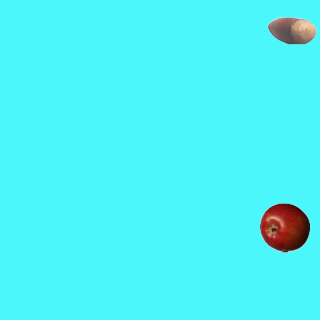Apple Braeburn: (259, 202, 309, 252)
Hazelnut: (266, 5, 316, 55)
